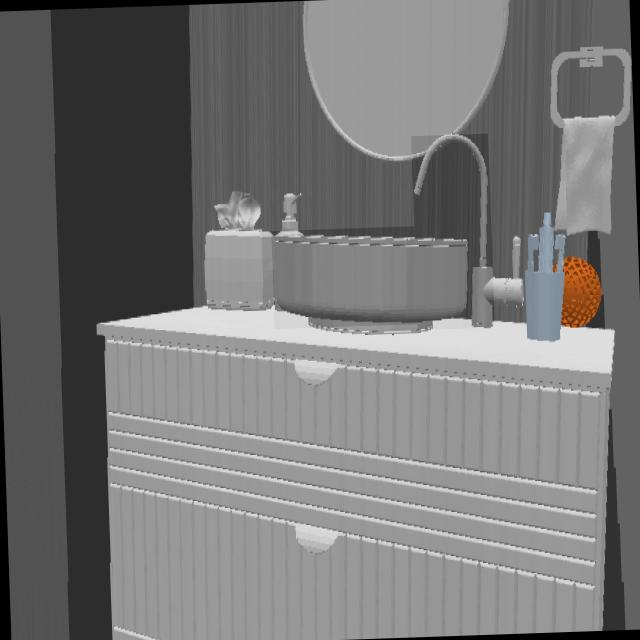washbasin: (273, 231, 472, 323), (413, 134, 493, 327)
